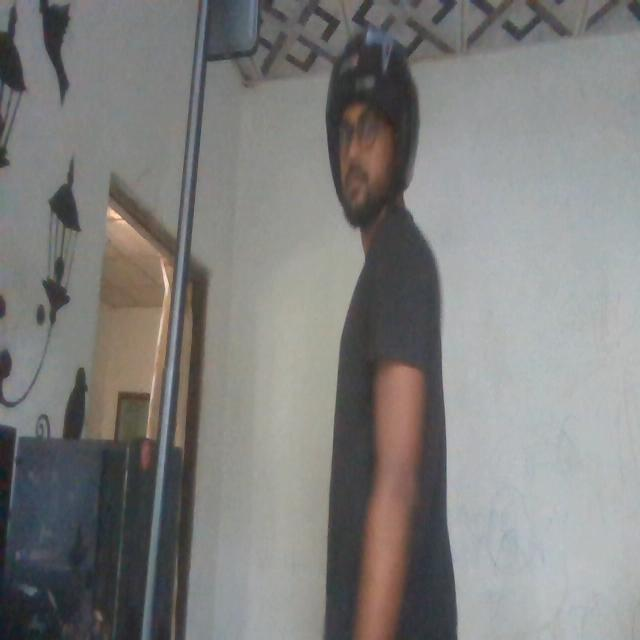Helmet_Wearer: (322, 28, 418, 250)
Person: (316, 27, 450, 640)
